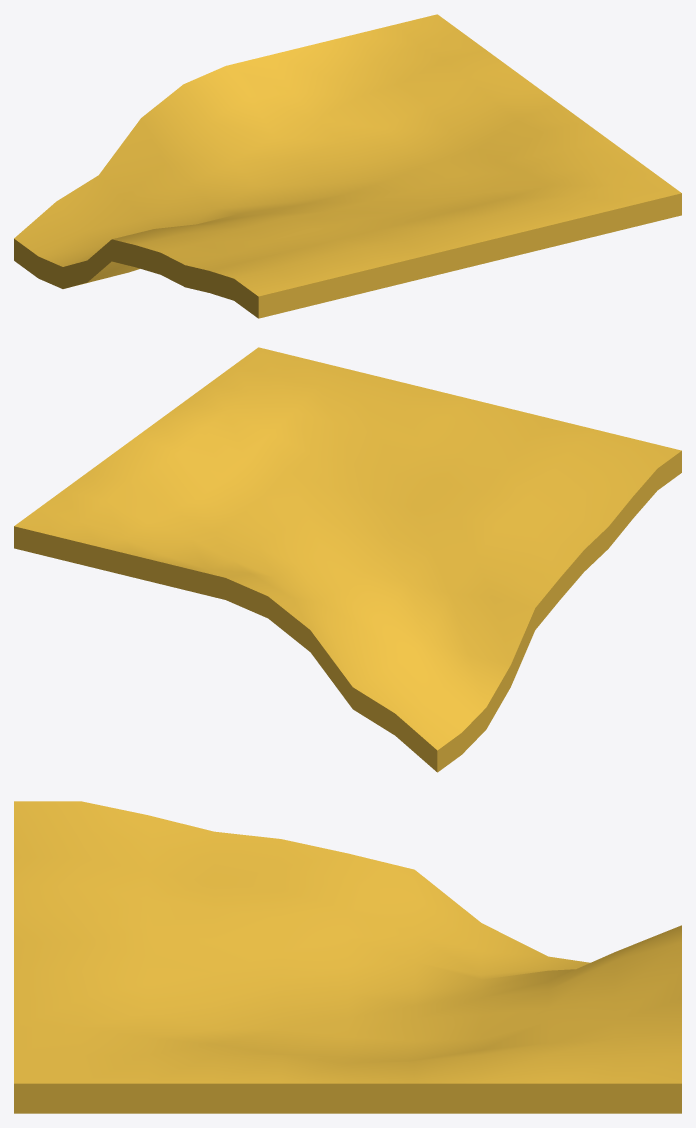
The model's file is Flach - Unten - Ecke Invertiert b - a.fbx.
The picture shows the model from 3 angles, top to bottom: view 1: azimuth 30°, elevation 25°; view 2: azimuth 150°, elevation 25°; view 3: azimuth 270°, elevation 25°; orthographic projection. The views are drawn at different scales.
Parts seen in each view (by area): view 1: Flach - Unten - Ecke Invertiert b - a; view 2: Flach - Unten - Ecke Invertiert b - a; view 3: Flach - Unten - Ecke Invertiert b - a.
Part boxes in pixels (<box>): Flach - Unten - Ecke Invertiert b - a: <box>14,14,681,318</box>; Flach - Unten - Ecke Invertiert b - a: <box>14,347,681,772</box>; Flach - Unten - Ecke Invertiert b - a: <box>14,801,681,1113</box>.
Bounding box in the file's own units: 394 × 127 × 394.
